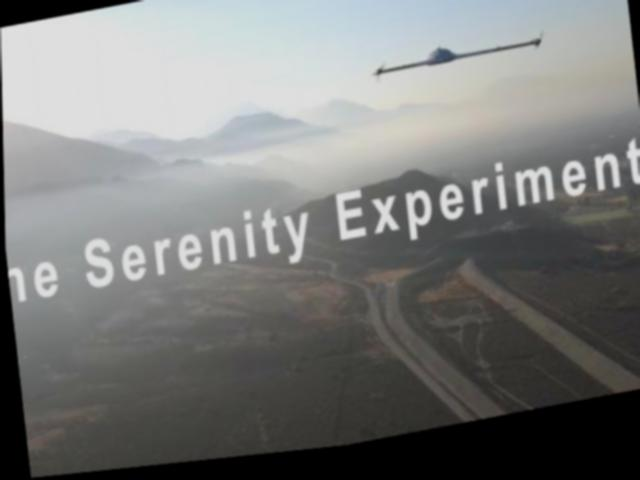iha: (365, 30, 552, 90)
